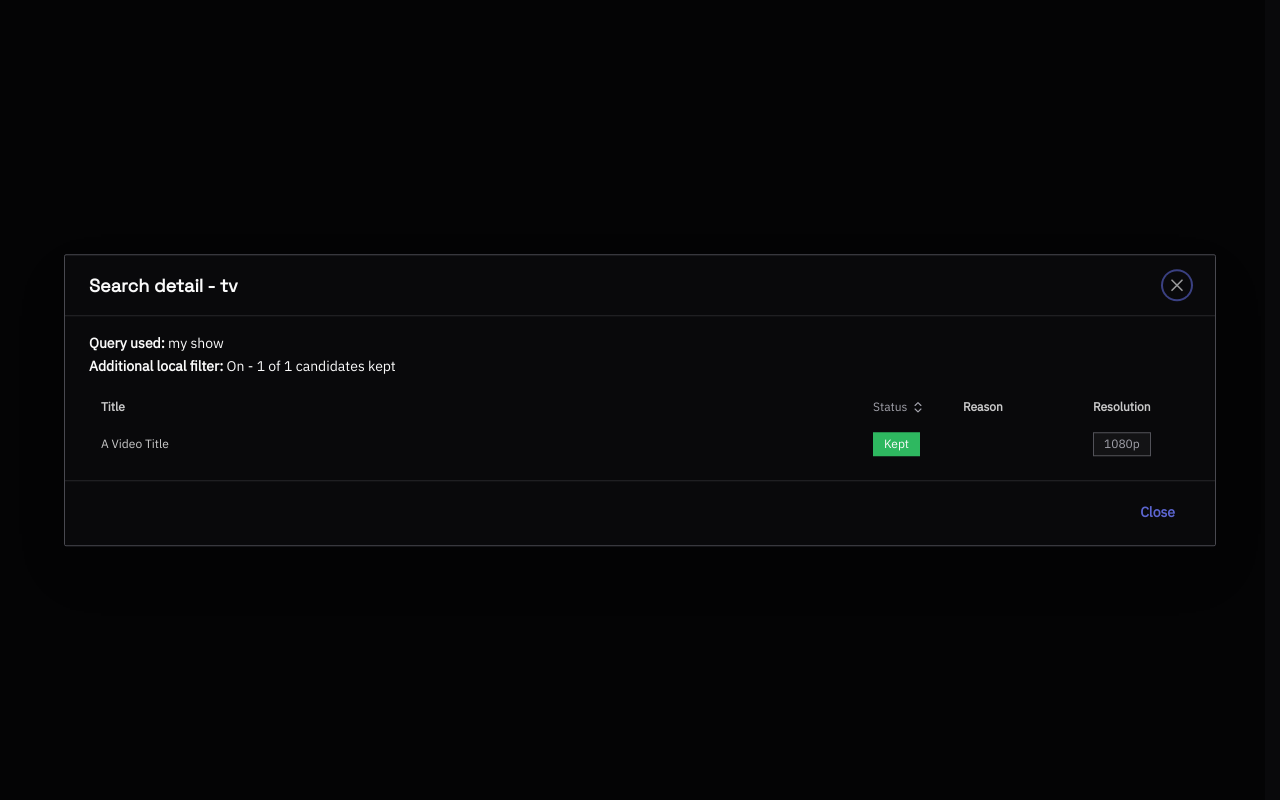
Scenario: NzbSearchTraceDialog › resolution column › falls back to a config-derived source when none was recorded
The width and height of the screenshot is (1280, 800).
Hover over the button "1080p" at (1122, 444), box [1093,432,1151,456]
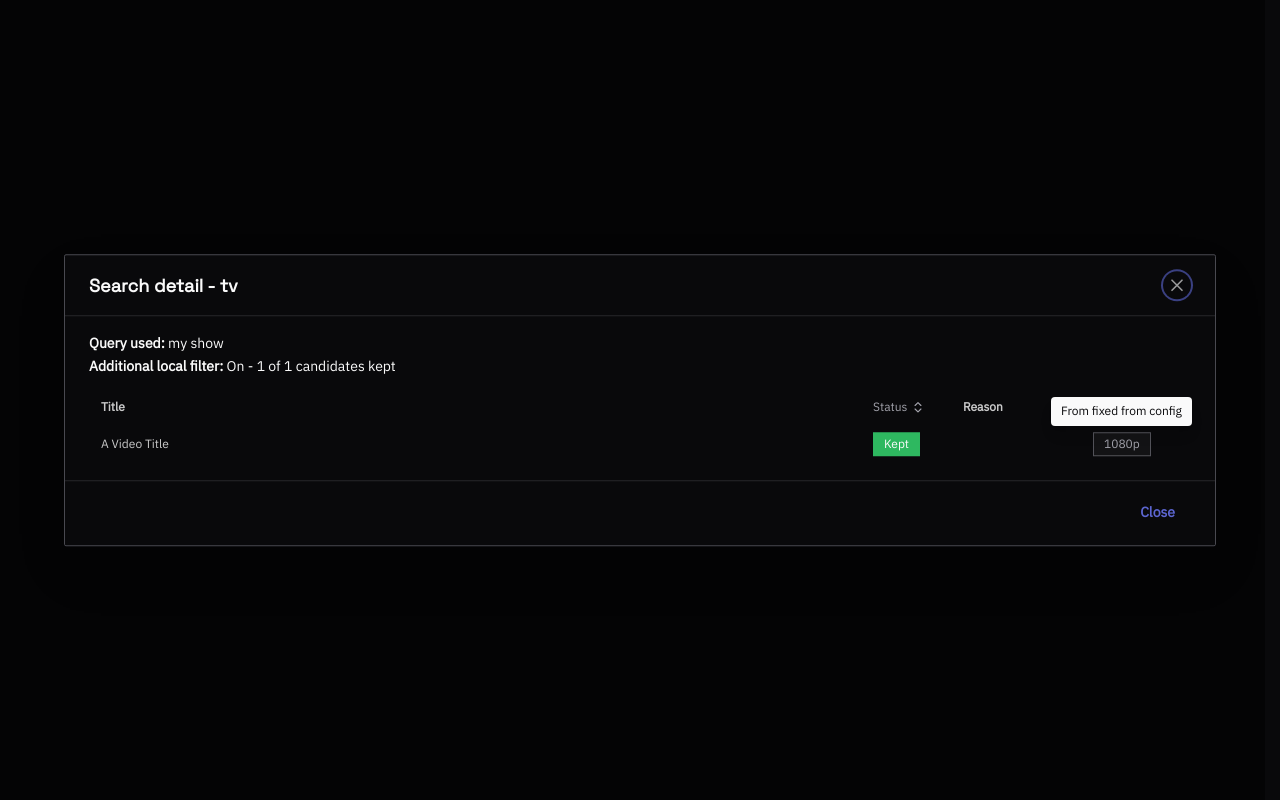
Check: the tooltip "From fixed from config" is shown, box [1051,397,1192,426]
